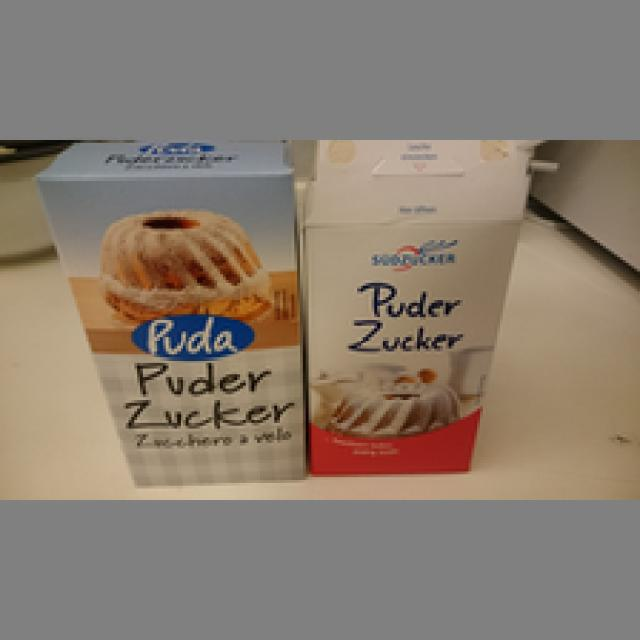groceries: (28, 140, 303, 486), (300, 174, 520, 477)
